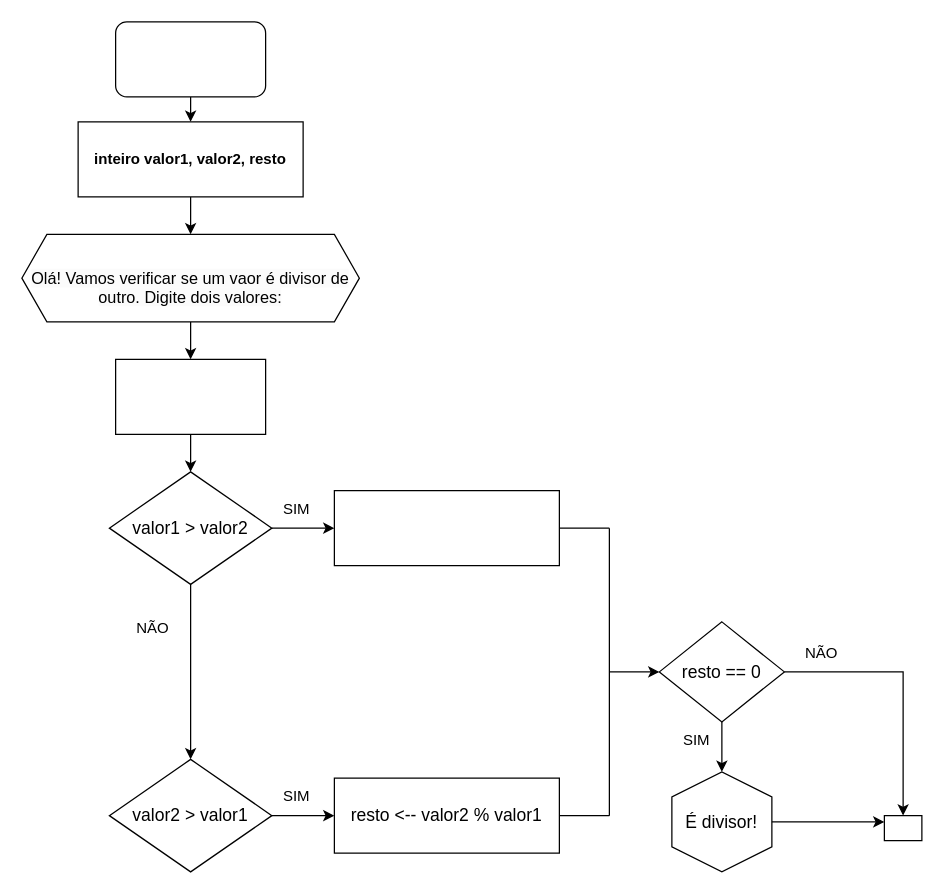
This 944x894 diagram has some shape labels left out. The shapes that lost their labels are listed below. From the top down, each one's centre as x and y in pixels, then its label:
the point at 190,59: INÍCIO
the point at 190,396: Leia(valor1, valor 2)
the point at 446,527: resto <-- valor1 % valor2
the point at 902,827: FIM
